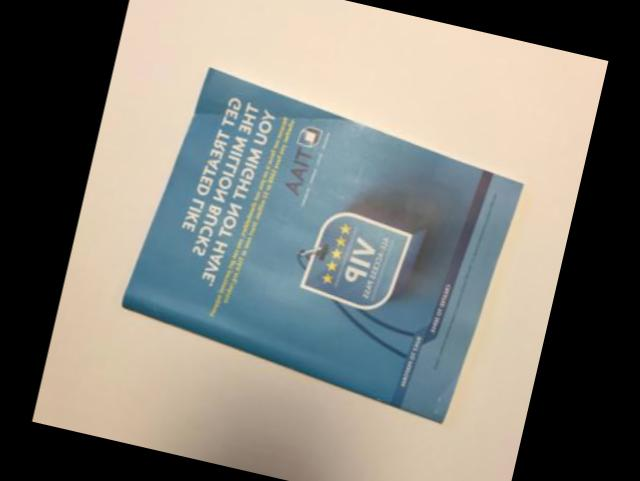cardboard paper: (121, 66, 520, 418)
